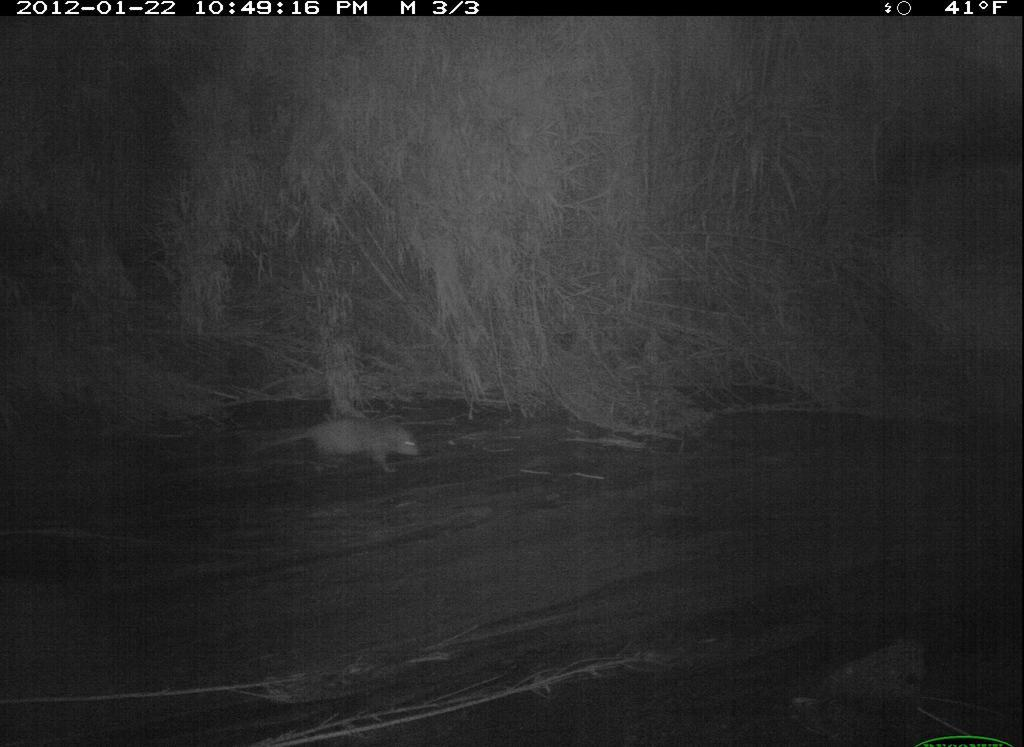opossum: (253, 397, 438, 478)
